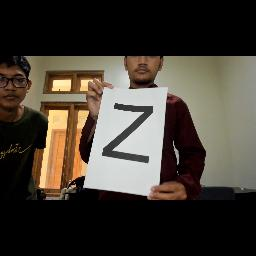z: (100, 100, 156, 166)
